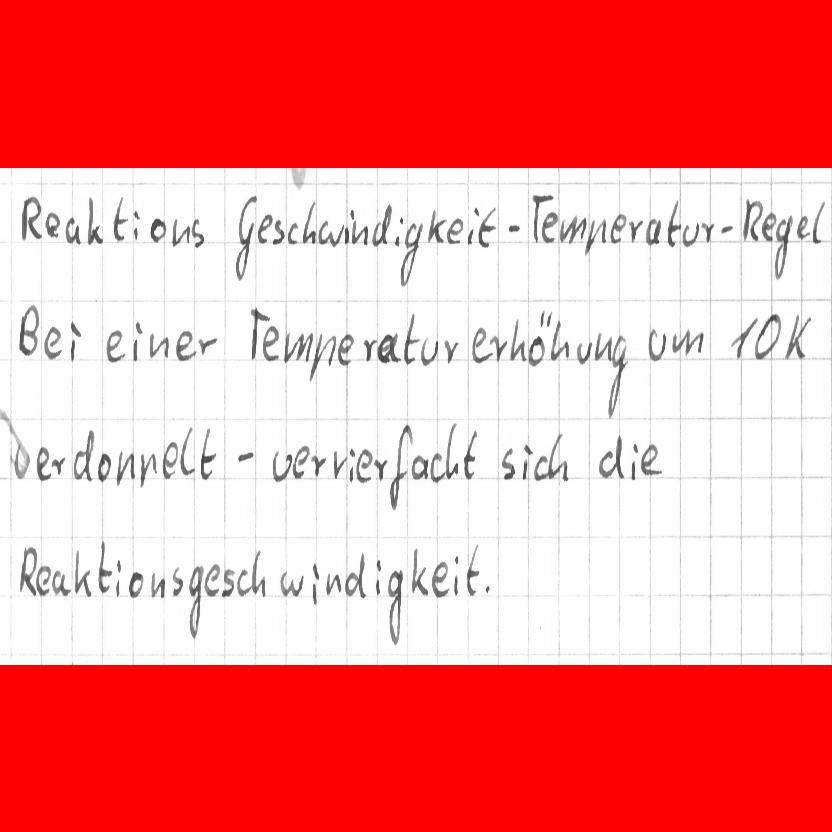Char: (232, 193, 256, 285), (386, 429, 413, 510), (605, 338, 629, 416), (780, 309, 813, 364), (2, 408, 28, 476), (386, 564, 404, 647), (307, 330, 335, 383), (399, 220, 421, 287), (751, 312, 781, 360), (729, 312, 757, 361), (16, 303, 39, 359), (246, 301, 267, 361), (186, 566, 203, 639), (598, 433, 624, 480), (72, 427, 94, 482), (528, 308, 548, 367), (528, 190, 548, 245), (282, 330, 314, 363), (72, 547, 93, 597), (19, 193, 40, 243), (17, 542, 36, 596), (673, 327, 705, 359), (198, 426, 217, 479), (775, 216, 791, 278), (460, 427, 478, 481), (409, 546, 428, 597), (372, 199, 391, 250), (346, 552, 367, 598), (400, 312, 418, 365), (464, 542, 481, 597), (741, 195, 761, 240), (85, 196, 103, 246), (444, 420, 459, 480), (582, 217, 604, 257), (549, 433, 567, 481), (478, 206, 498, 249), (550, 320, 570, 363), (180, 422, 195, 479), (249, 548, 266, 598), (137, 449, 157, 491), (103, 327, 126, 363), (96, 540, 111, 595), (332, 446, 353, 485), (645, 327, 669, 361), (471, 325, 491, 365), (664, 199, 681, 245), (262, 323, 282, 362), (270, 446, 291, 483), (111, 196, 128, 241), (640, 441, 661, 477), (318, 219, 344, 248), (114, 448, 133, 487), (280, 568, 303, 599), (302, 200, 318, 243), (431, 562, 450, 598), (427, 207, 445, 244), (34, 443, 51, 482), (560, 215, 582, 245), (813, 199, 828, 243), (335, 331, 353, 367), (43, 326, 62, 360), (593, 329, 612, 363), (509, 318, 524, 361), (162, 440, 178, 480), (175, 329, 195, 361), (148, 329, 168, 361), (67, 321, 82, 362), (378, 333, 398, 363), (443, 336, 463, 366), (170, 218, 190, 247), (204, 565, 221, 599), (501, 447, 517, 483), (255, 212, 273, 244), (357, 446, 372, 484), (610, 213, 628, 244), (420, 334, 438, 365), (489, 333, 507, 364), (465, 205, 478, 247), (148, 571, 167, 599), (451, 550, 462, 598), (540, 211, 557, 242), (351, 214, 368, 245), (43, 209, 60, 240), (310, 560, 321, 606), (65, 216, 83, 244), (446, 217, 464, 245), (132, 320, 144, 362), (682, 220, 702, 245), (197, 333, 217, 358), (127, 569, 144, 598), (191, 215, 205, 250), (294, 444, 308, 479), (149, 216, 167, 243), (95, 452, 111, 482), (53, 568, 69, 598), (324, 571, 342, 597), (409, 454, 427, 480), (37, 566, 52, 597), (646, 217, 662, 246), (170, 565, 184, 598), (520, 443, 532, 481), (360, 337, 377, 363), (760, 211, 775, 240), (221, 567, 235, 598), (629, 440, 640, 479), (575, 340, 592, 365), (235, 568, 249, 598), (430, 451, 443, 483), (343, 209, 354, 246), (630, 216, 644, 245), (51, 452, 66, 479), (311, 453, 327, 478), (795, 215, 810, 241), (234, 447, 255, 465), (271, 216, 284, 245), (286, 220, 301, 245), (373, 457, 388, 482), (114, 560, 124, 597), (393, 214, 404, 247), (700, 220, 715, 244), (131, 210, 142, 242), (717, 221, 736, 239), (374, 560, 383, 598), (535, 457, 549, 481), (506, 221, 524, 237), (481, 578, 493, 599)
